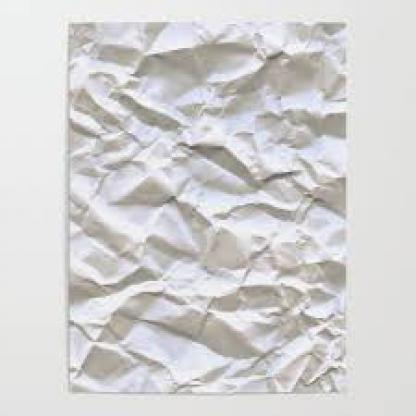paper: (64, 13, 346, 394)
